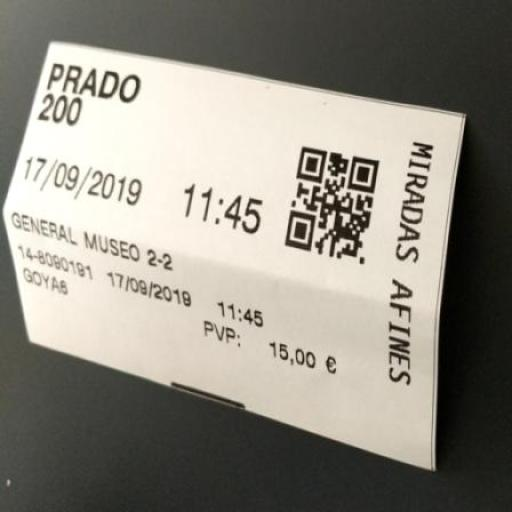paper: (5, 4, 480, 484)
